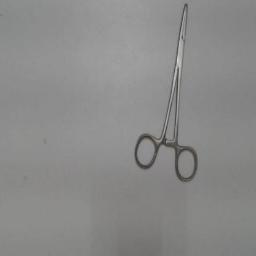Mayo Needle Holder: (130, 2, 202, 186)
